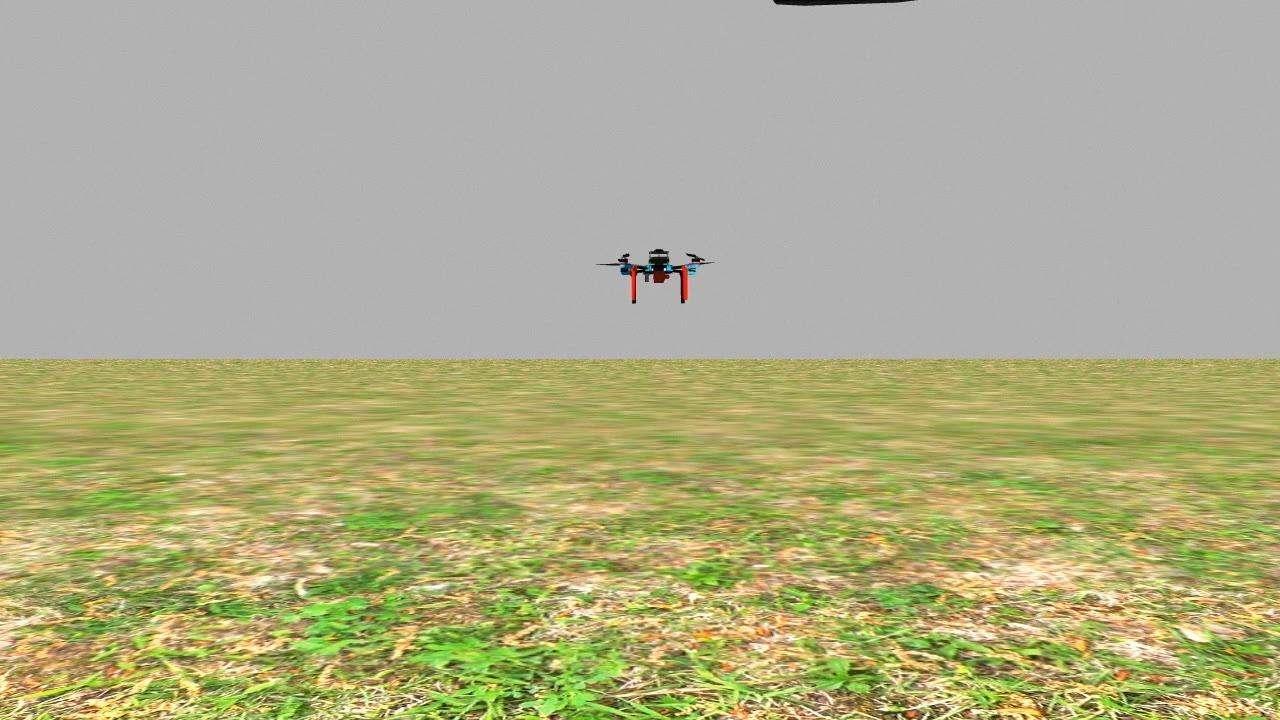UAV: (594, 238, 729, 310)
